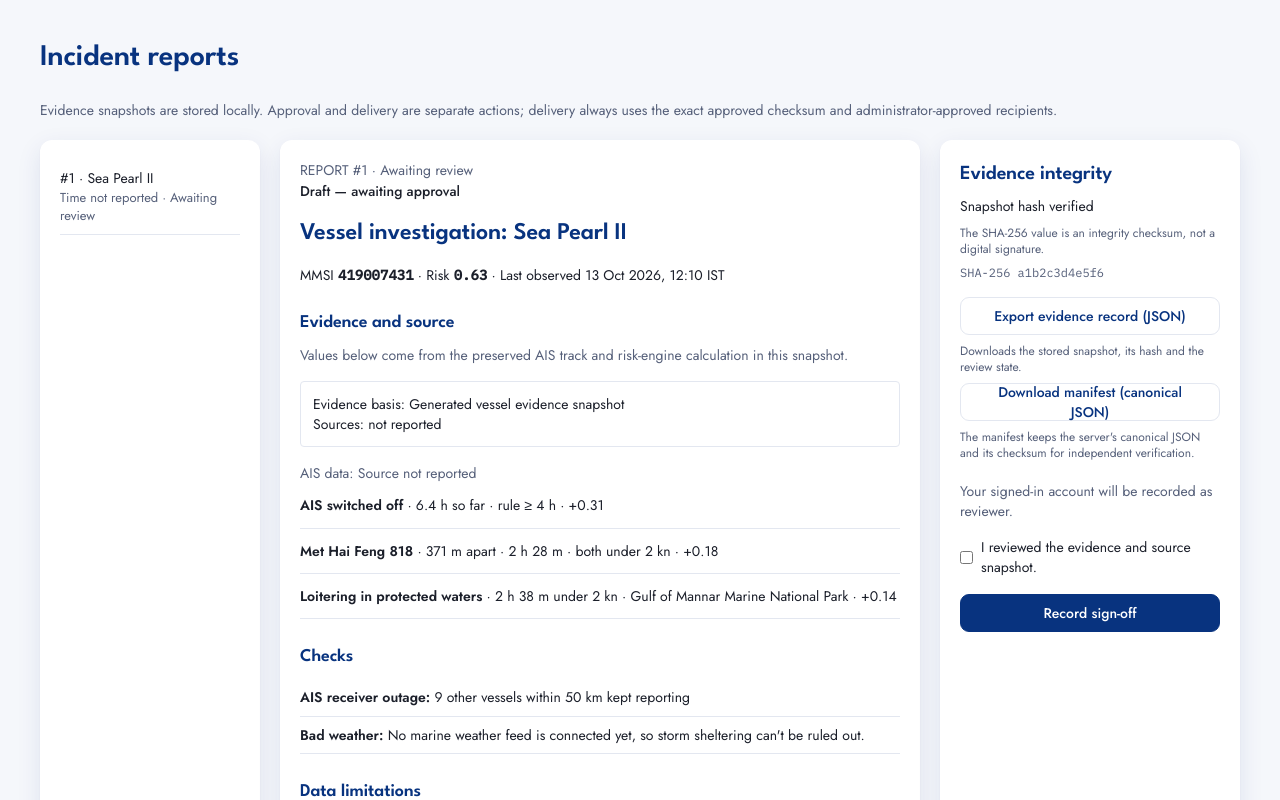
Test: Cases / EvidencePage & ReportsPage › says the export failed when the report text cannot be loaded
Click the button "Export evidence record (JSON)": (1090, 316) x1=960 y1=297 x2=1220 y2=335
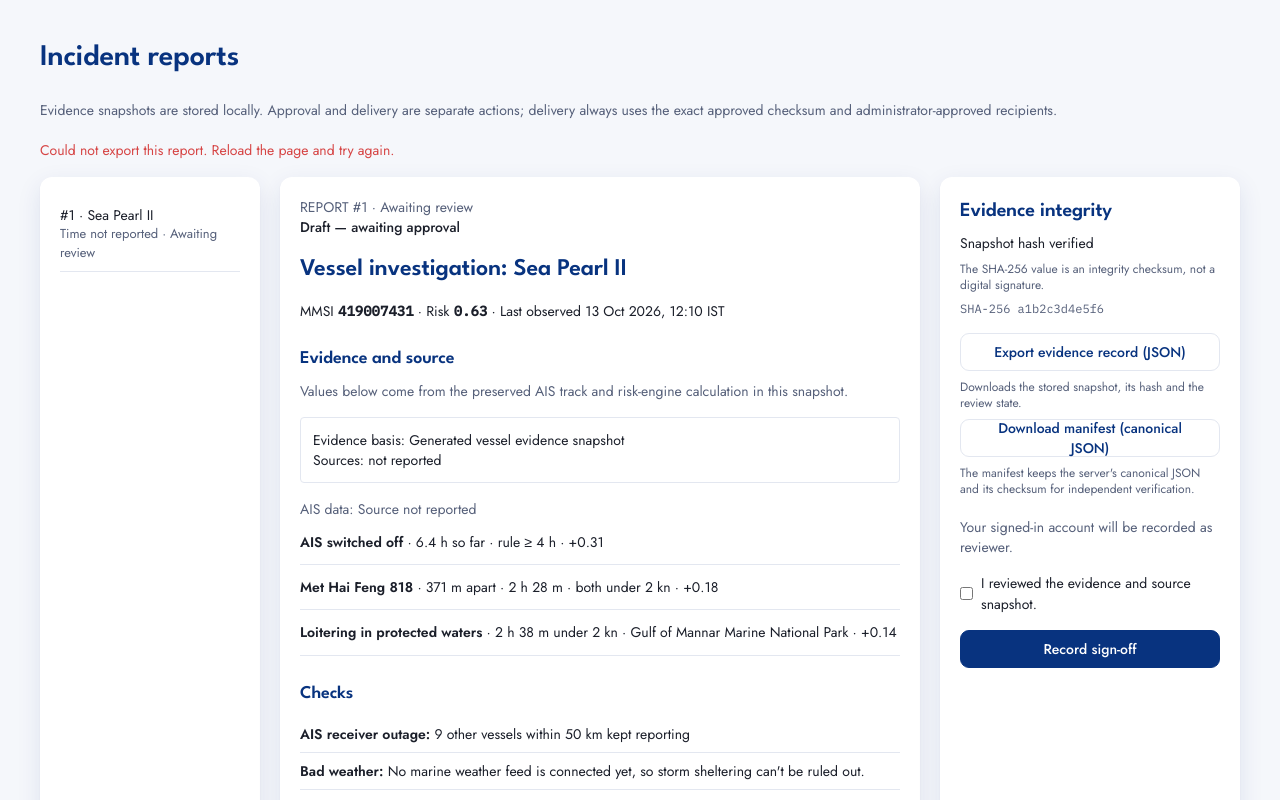
expect the message reads "Could not export this report. Reload the page and try again.": met, box x1=40 y1=140 x2=394 y2=160
